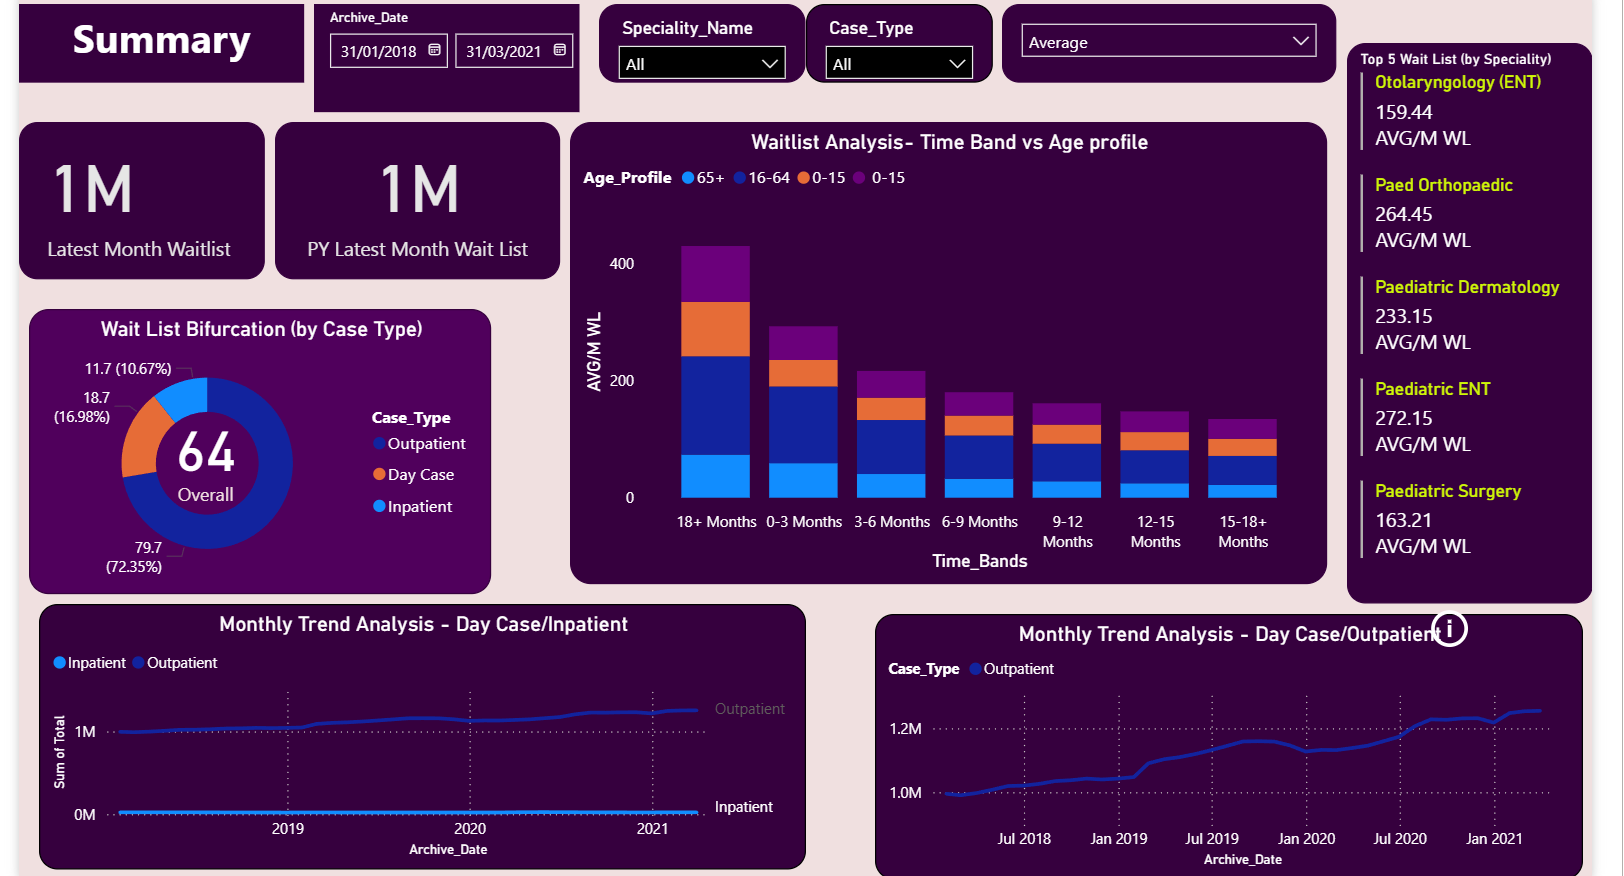

What the dashboard file says about the page in this screenshot:
{"tool":"powerbi","page":{"name":"Summary","canvas":[1280,720],"ordinal":0},"visuals":[{"type":"cardVisual","fields":{"Data":["All_Data.Latest Month Waitlist"]},"box":[0,72,200,144],"z":0},{"type":"cardVisual","fields":{"Data":["All_Data.PY Lates Month Wait List"]},"box":[192,88,224,128],"z":1000},{"type":"slicer","fields":{"Values":["Calculation Method.Calc Method"]},"box":[792,0,272,64],"z":2000},{"type":"donutChart","title":"Wait List Bifurcation (by Case Type)","fields":{"Category":["All_Data.Case_Type"],"Y":["All_Data.AVG/M WL"]},"box":[8,232,376,232],"z":3000},{"type":"columnChart","title":"Waitlist Analysis- Time Band vs Age profile","fields":{"Y":["All_Data.AVG/M WL"],"Category":["All_Data.Time_Bands"],"Series":["All_Data.Age_Profile"]},"box":[424,96,616,376],"z":4000},{"type":"multiRowCard","title":"Top 5 Wait List (by Speciality)","fields":{"Values":["All_Data.Speciality_Name","All_Data.AVG/M WL"]},"box":[1064,48,192,432],"z":5000},{"type":"lineChart","title":"Monthly Trend Analysis - Day Case/Inpatient","fields":{"Category":["All_Data.Archive_Date"],"Y":["Sum(All_Data.Total)"],"Series":["All_Data.Case_Type"]},"box":[16,544,624,144],"z":6000},{"type":"lineChart","title":"Monthly Trend Analysis - Day Case/Outpatient","fields":{"Category":["All_Data.Archive_Date"],"Y":["Sum(All_Data.Total)"],"Series":["All_Data.Case_Type"]},"box":[680,512,576,200],"z":7000},{"type":"slicer","fields":{"Values":["All_Data.Archive_Date"]},"box":[216,0,216,88],"z":8000},{"type":"slicer","fields":{"Values":["All_Data.Case_Type"]},"box":[592,8,152,64],"z":9000},{"type":"slicer","fields":{"Values":["All_Data.Speciality_Name"]},"box":[424,8,168,64],"z":10000},{"type":"textbox","box":[0,0,176,64],"z":11000},{"type":"cardVisual","fields":{"Data":["All_Data.AVG/M WL"]},"box":[72,304,152,112],"z":12000},{"type":"shape","title":"Total Wait List Comparison","box":[40,80,288,120],"z":13000},{"type":"actionButton","box":[1184,496,40,40],"z":14000}]}

Visuals, with their boxes on the page's 1280x720 design canvas (x1, y1, x2, y2). These are canvas units, not pixel positions in the 1624x876 screenshot, which may show the page scaled, cropped or inside an application window:
cardVisual - All_Data.Latest Month Waitlist: (x1=0, y1=72, x2=200, y2=216)
cardVisual - All_Data.PY Lates Month Wait List: (x1=192, y1=88, x2=416, y2=216)
slicer - Calculation Method.Calc Method: (x1=792, y1=0, x2=1064, y2=64)
"Wait List Bifurcation (by Case Type)" donutChart: (x1=8, y1=232, x2=384, y2=464)
"Waitlist Analysis- Time Band vs Age profile" columnChart: (x1=424, y1=96, x2=1040, y2=472)
"Top 5 Wait List (by Speciality)" multiRowCard: (x1=1064, y1=48, x2=1256, y2=480)
"Monthly Trend Analysis - Day Case/Inpatient" lineChart: (x1=16, y1=544, x2=640, y2=688)
"Monthly Trend Analysis - Day Case/Outpatient" lineChart: (x1=680, y1=512, x2=1256, y2=712)
slicer - All_Data.Archive_Date: (x1=216, y1=0, x2=432, y2=88)
slicer - All_Data.Case_Type: (x1=592, y1=8, x2=744, y2=72)
slicer - All_Data.Speciality_Name: (x1=424, y1=8, x2=592, y2=72)
textbox: (x1=0, y1=0, x2=176, y2=64)
cardVisual - All_Data.AVG/M WL: (x1=72, y1=304, x2=224, y2=416)
"Total Wait List Comparison" shape: (x1=40, y1=80, x2=328, y2=200)
actionButton: (x1=1184, y1=496, x2=1224, y2=536)
